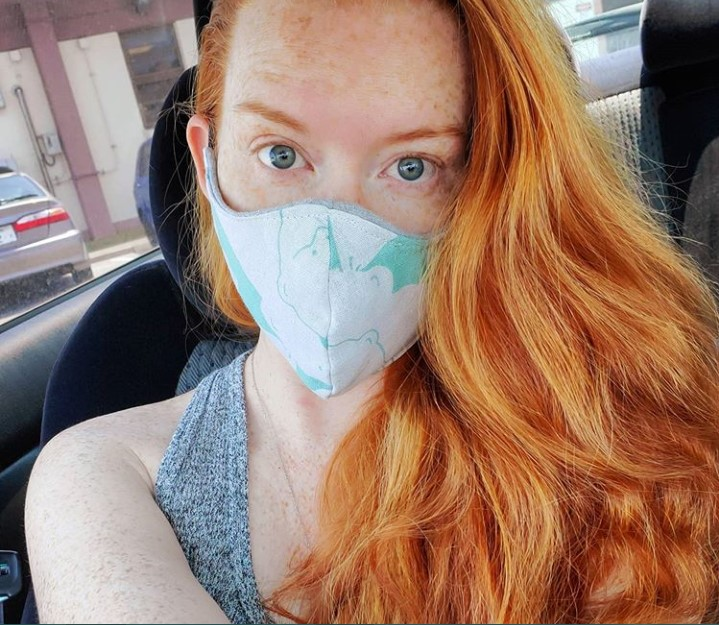face_with_mask: (173, 0, 540, 402)
